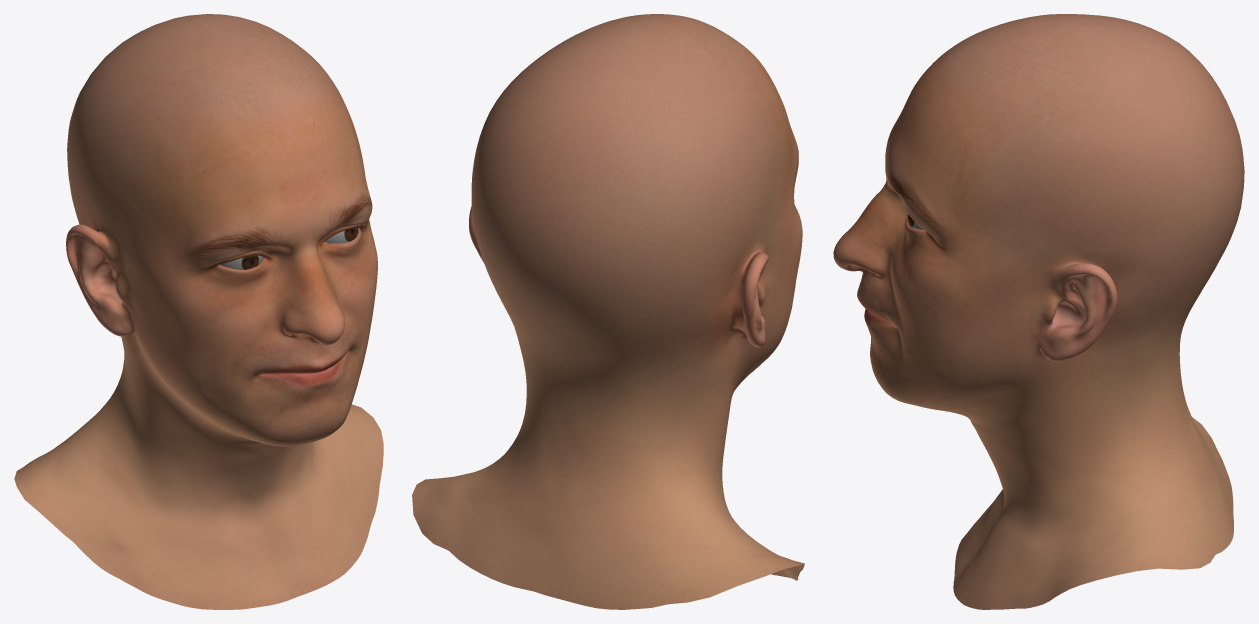
3 renders of one model, left to right at view 1: azimuth 30°, elevation 25°; view 2: azimuth 150°, elevation 25°; view 3: azimuth 270°, elevation 25°, orthographic. The views are drawn at different scales.
Visible parts, largest first — view 1: Registered head; view 2: Registered head; view 3: Registered head.
Part boxes in pixels (x1=…): Registered head: x1=14, y1=14, x2=383, y2=609; Registered head: x1=412, y1=14, x2=804, y2=609; Registered head: x1=833, y1=14, x2=1244, y2=609.
Bounding box in the file's own units: 1.27 × 1.85 × 1.25.
Materials: 3 (3 with a texture image).
